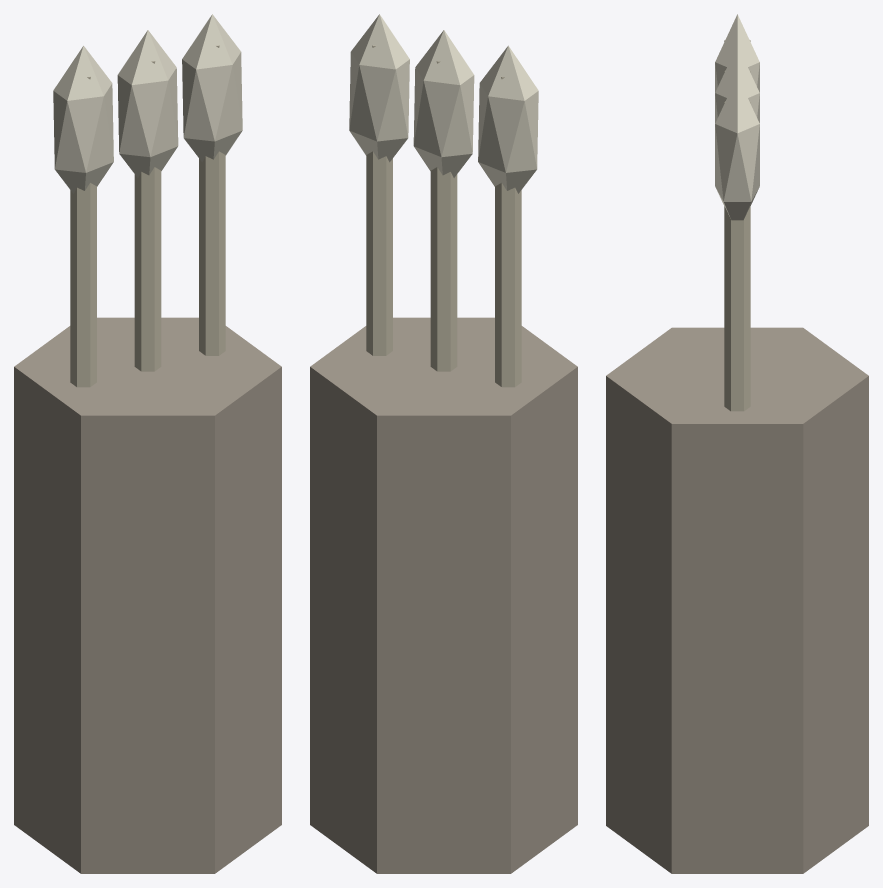
The model's file is SM_NPC_Accessory_02_Quiver.glb.
3 views of the same model, side by side, from view 1: azimuth 30°, elevation 25°; view 2: azimuth 150°, elevation 25°; view 3: azimuth 270°, elevation 25° (orthographic).
Parts seen in each view (by area): view 1: SM_NPC_Accessory_02_Quiver; view 2: SM_NPC_Accessory_02_Quiver; view 3: SM_NPC_Accessory_02_Quiver.
Boxes of the visible parts, x1,y1,x2,y2 form: SM_NPC_Accessory_02_Quiver: (14, 14, 281, 873); SM_NPC_Accessory_02_Quiver: (310, 14, 577, 873); SM_NPC_Accessory_02_Quiver: (606, 14, 868, 873).
Bounding box in the file's own units: 0.1559 × 0.59 × 0.18.
